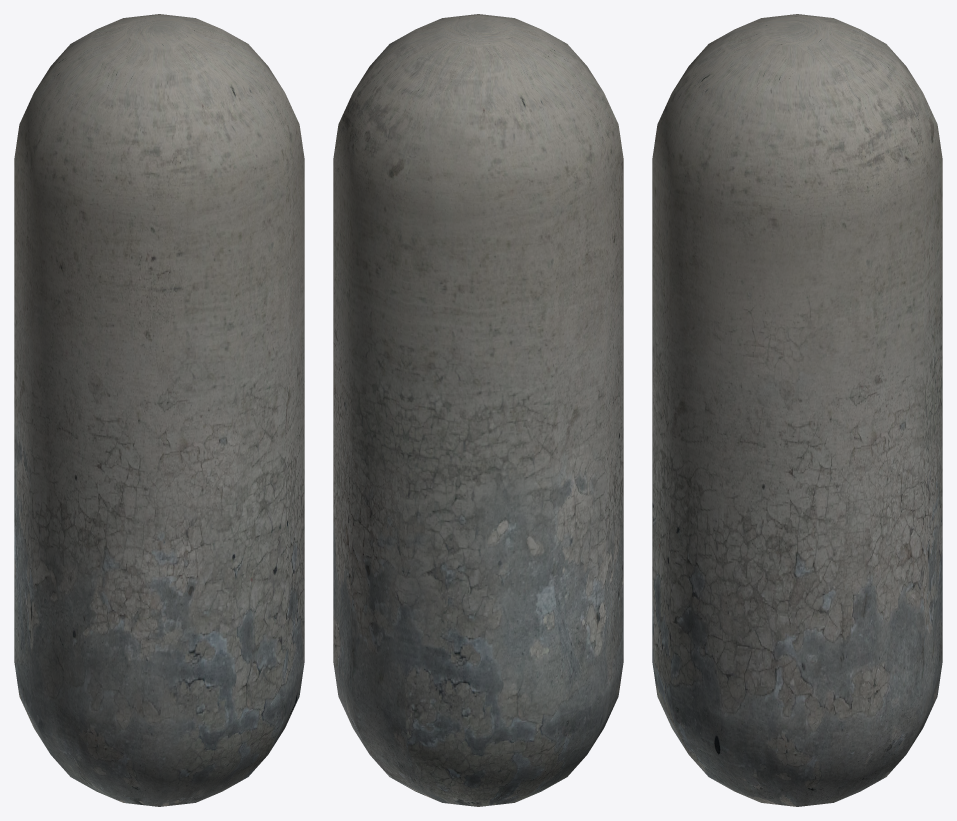
File: character-capsule.gltf
The picture shows the model from 3 angles, left to right: view 1: azimuth 30°, elevation 25°; view 2: azimuth 150°, elevation 25°; view 3: azimuth 270°, elevation 25°; orthographic projection.
Visible parts, largest first — view 1: Capsule001; view 2: Capsule001; view 3: Capsule001.
Part boxes in pixels (x1,y1,x2,y2): Capsule001: (14, 14, 304, 806); Capsule001: (333, 14, 623, 806); Capsule001: (652, 14, 942, 806).
Size of the model in its own units: 0.6 by 1.75 by 0.6.
